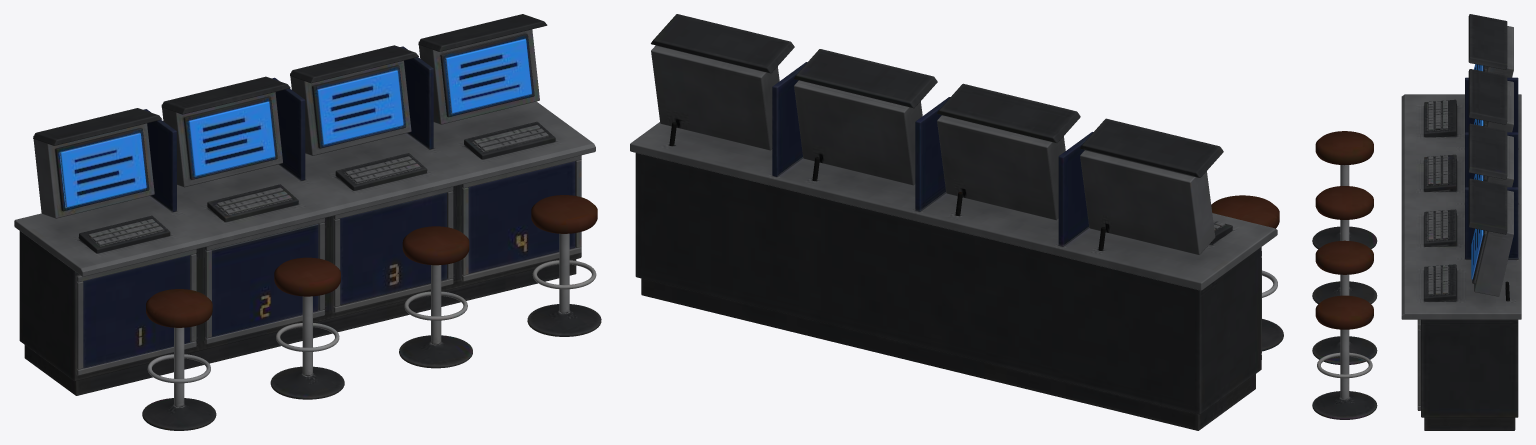
File: terminal_row.glb
The picture shows the model from 3 angles, left to right: view 1: azimuth 30°, elevation 25°; view 2: azimuth 150°, elevation 25°; view 3: azimuth 270°, elevation 25°; orthographic projection. The views are drawn at different scales.
Parts seen in each view (by area): view 1: terminal_row; view 2: terminal_row; view 3: terminal_row.
Boxes of the visible parts, left/top/right/bottom form: terminal_row: left=14, top=14, right=601, bottom=430; terminal_row: left=630, top=14, right=1283, bottom=430; terminal_row: left=1312, top=14, right=1521, bottom=430.
Bounding box in the file's own units: 3.2 × 1.4 × 1.29.
Materials: 1 (1 with a texture image).
